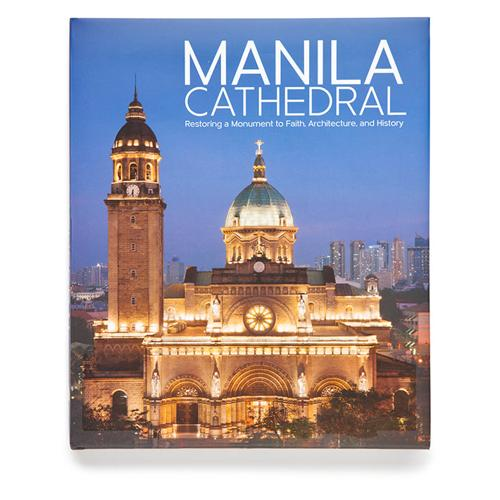Manila Cathedral Church: (94, 71, 397, 433)
